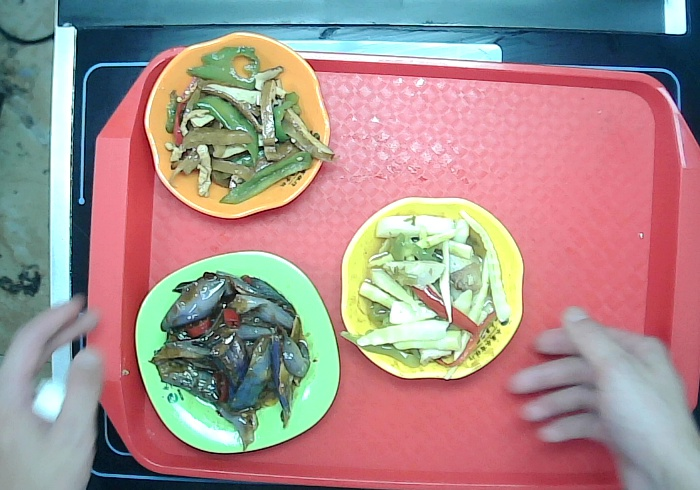YKMZ-Huang_Se_Ao_Bian_Wan: (332, 195, 537, 381)
YKMZ-Ju_Se_Ao_Bian_Wan: (140, 23, 339, 225)
YKMZ-Lv_Se_Fang_Die: (124, 246, 346, 465)
